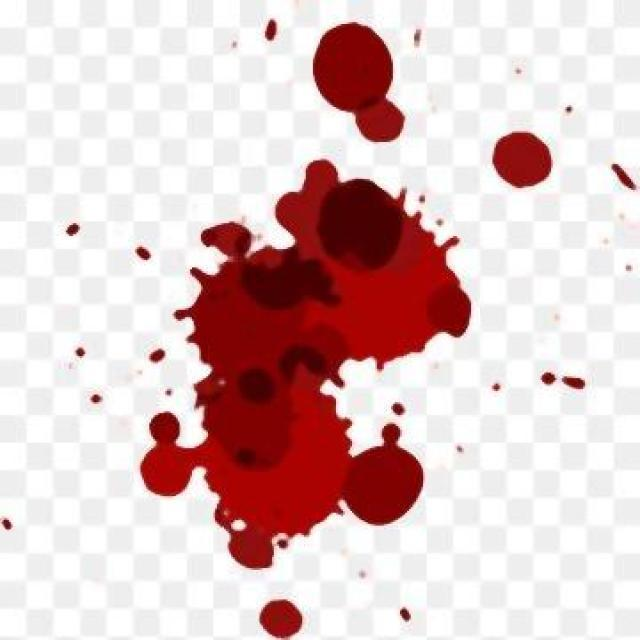flood: (90, 228, 484, 640), (253, 2, 640, 193)
